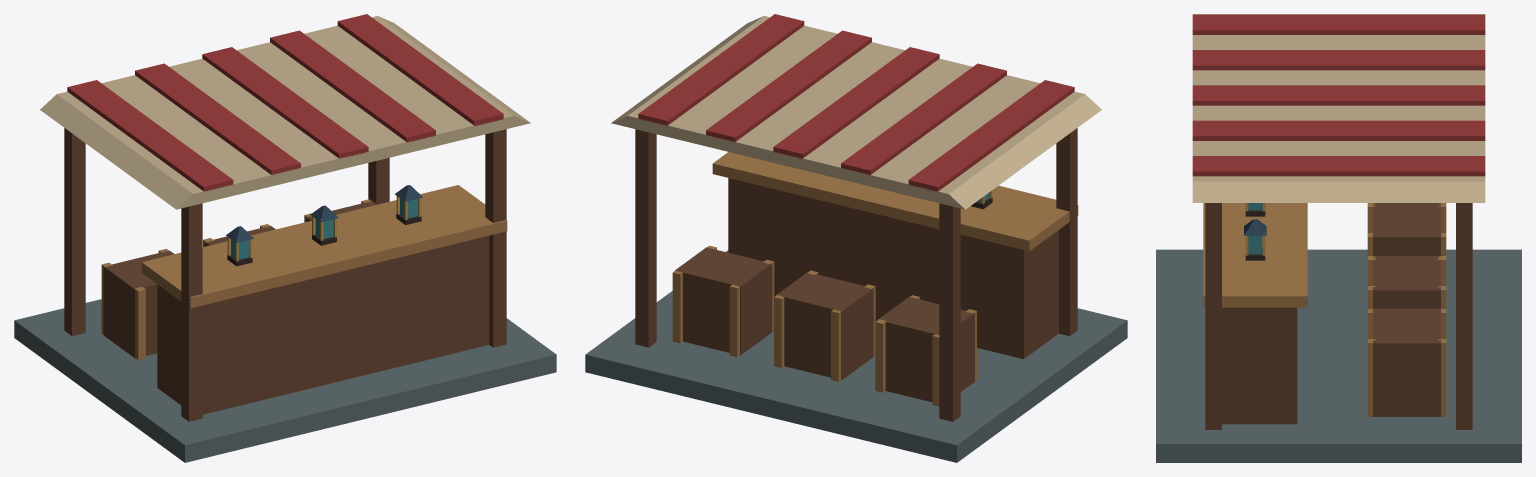
File: PirateCove_MarketStall_Showcase.glb
3 renders of one model, left to right at view 1: azimuth 30°, elevation 25°; view 2: azimuth 150°, elevation 25°; view 3: azimuth 270°, elevation 25°, orthographic. The views are drawn at different scales.
Visible parts, largest first — view 1: PirateCove_MarketStall_Showcase; view 2: PirateCove_MarketStall_Showcase; view 3: PirateCove_MarketStall_Showcase.
Part boxes in pixels (x1=…): PirateCove_MarketStall_Showcase: x1=14, y1=14, x2=556, y2=462; PirateCove_MarketStall_Showcase: x1=585, y1=14, x2=1127, y2=462; PirateCove_MarketStall_Showcase: x1=1156, y1=14, x2=1521, y2=462.
Bounding box in the file's own units: 4.4 × 2.88 × 3.5.
